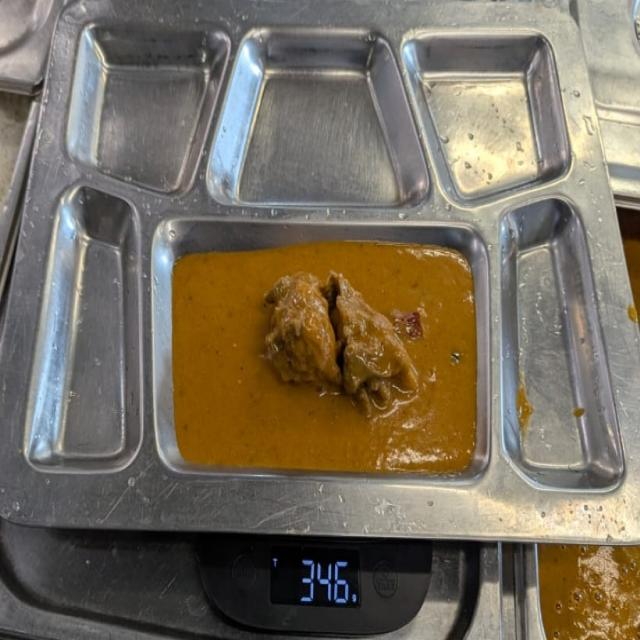Chicken Curry: (169, 234, 483, 476)
